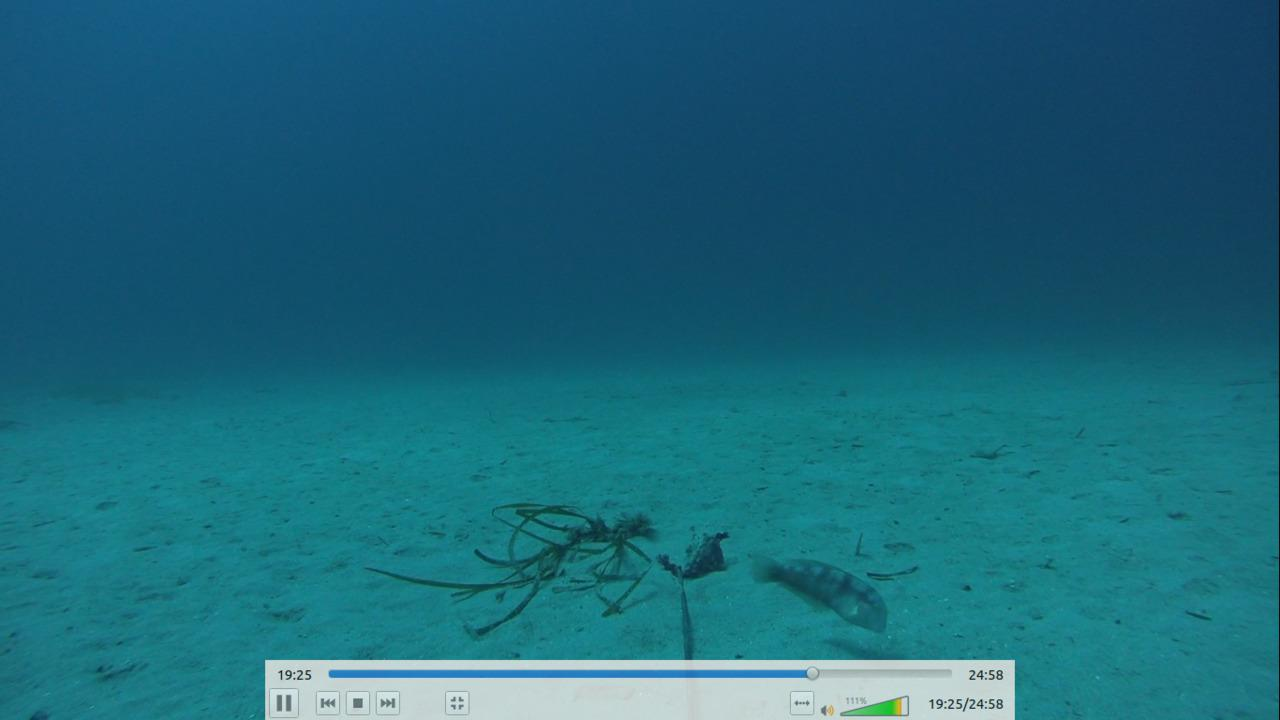raor: (747, 550, 890, 638)
